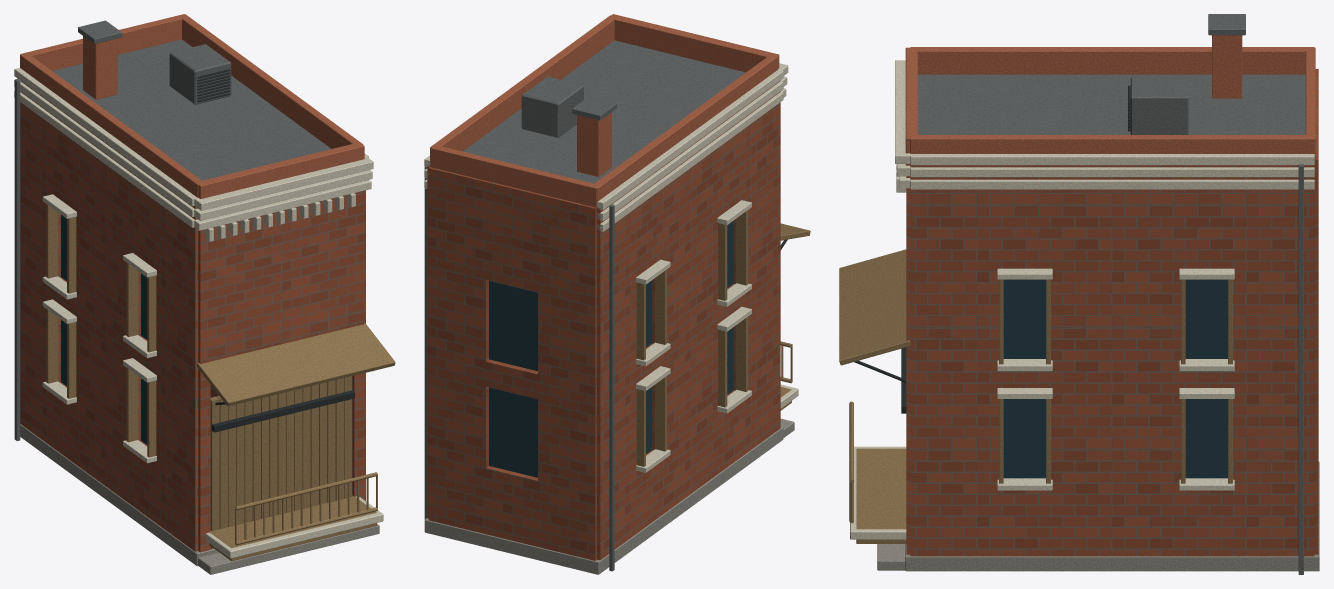
Rendered from WHSE23_lod1.glb.
3 renders of one model, left to right at view 1: azimuth 30°, elevation 25°; view 2: azimuth 150°, elevation 25°; view 3: azimuth 270°, elevation 25°, orthographic. The views are drawn at different scales.
Visible parts, largest first — view 1: WHSE23_LOD1; view 2: WHSE23_LOD1; view 3: WHSE23_LOD1.
Part boxes in pixels (bbox=[...]): WHSE23_LOD1: bbox=[14, 14, 395, 574]; WHSE23_LOD1: bbox=[424, 14, 810, 574]; WHSE23_LOD1: bbox=[839, 14, 1319, 574].
Bounding box in the file's own units: 3.71 × 7.85 × 7.13.
8 materials, 7 textured.
